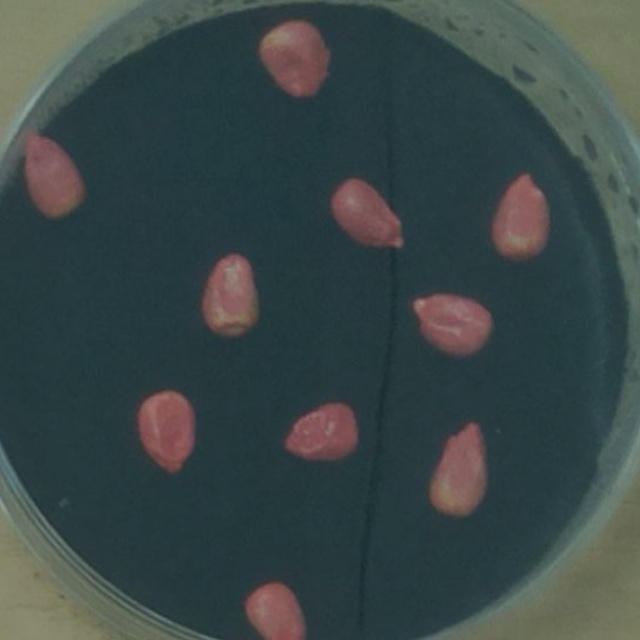Zea mays: (420, 415, 497, 527), (248, 11, 337, 107), (322, 170, 413, 260), (402, 286, 503, 367), (16, 124, 94, 227), (483, 166, 559, 271), (191, 246, 268, 347), (128, 384, 204, 484), (275, 394, 367, 471), (236, 575, 316, 639)
